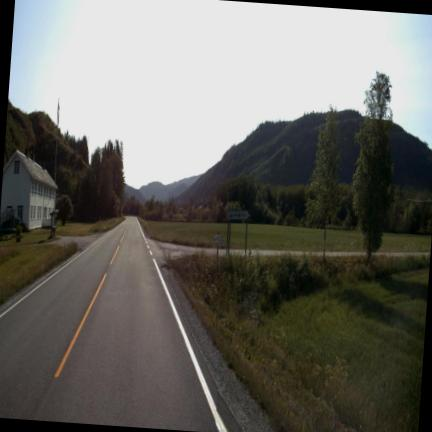Road: (0, 217, 240, 431)
